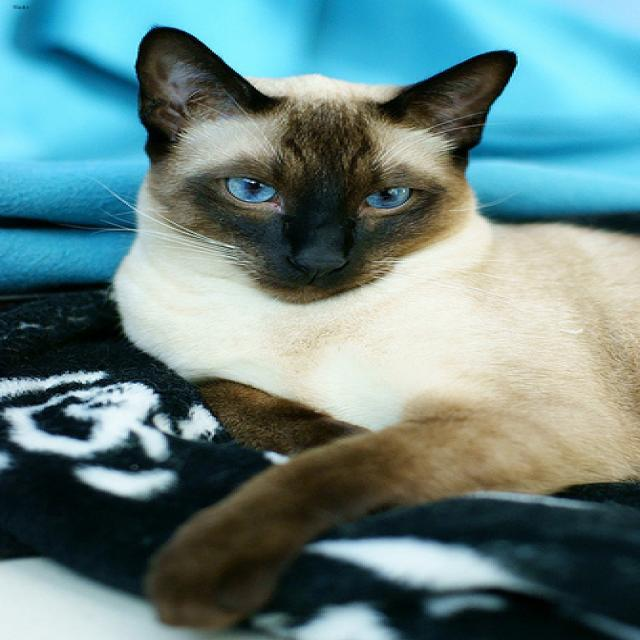Siamese: (119, 19, 524, 306)
